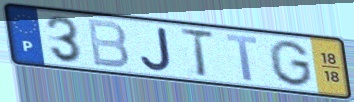3: (45, 15, 82, 65)
B: (84, 17, 131, 70)
G: (267, 38, 315, 88)
J: (138, 25, 174, 73)
T: (176, 27, 217, 79), (223, 32, 260, 83)
